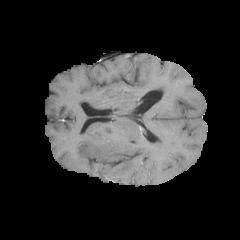glioma: (82, 137, 176, 175)
